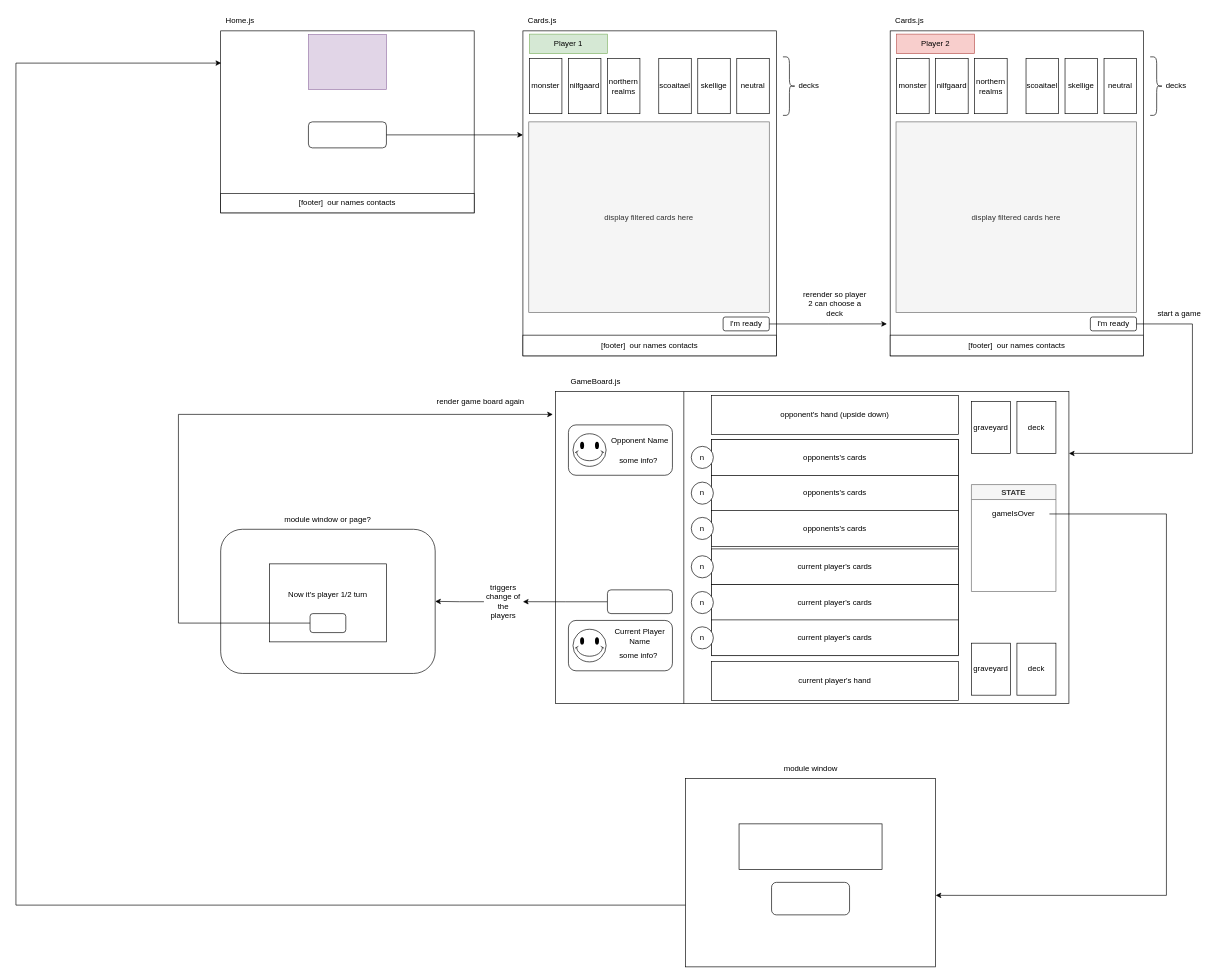
Some shapes in this 1220 by 978 pixel diagram are drawn without their labels. The centre of each missing label's shape, as x and y in pixels:
button: start playing: point 347,134
Congratulations, Player 1/2 !: point 810,846
Gwent The Witcher Card Game logo: point 347,61
move option: point 639,601
OK: point 327,623
yaay, ich freue mich!: point 810,898
